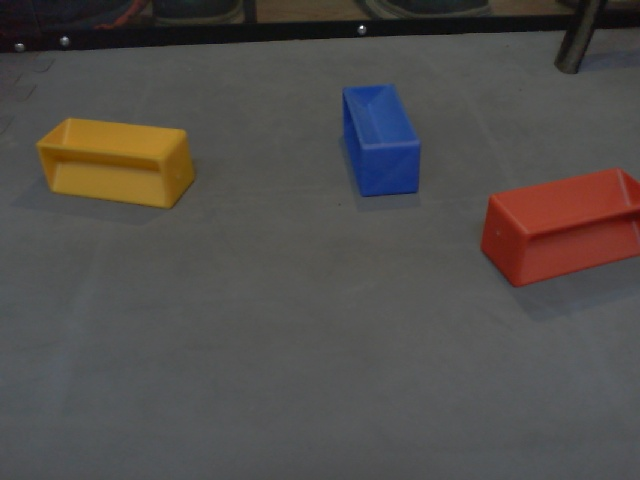BlueSample: (341, 83, 423, 198)
RedSample: (480, 165, 640, 289)
YellowSample: (32, 115, 196, 211)
